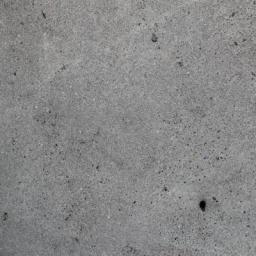FOD: (199, 198, 210, 218)
